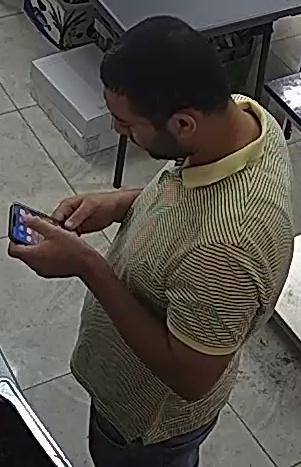no_apron: (104, 129, 269, 355)
